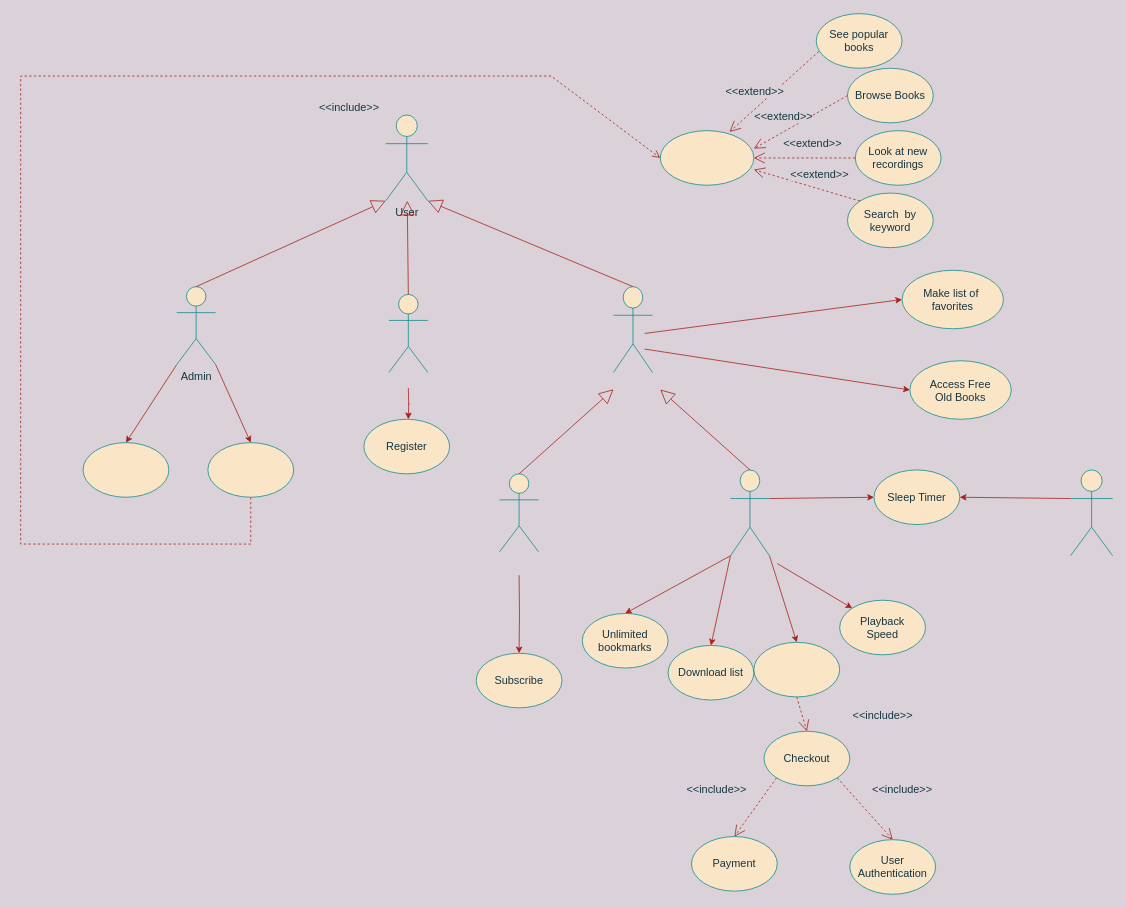
The diagram is 1126 pixels wide and 908 high, and some of its shapes have lost their labels. Here are the shapes that lost their labels. From the top down, the box of each, then its label:
(659, 130, 754, 185): View Books
(388, 294, 428, 372): Guest
(613, 286, 652, 372): Registered User
(82, 442, 169, 497): Modify Account
(207, 442, 294, 497): Manage Books
(499, 473, 539, 552): Unsubscribed User
(730, 469, 769, 556): Subscribed User
(1070, 469, 1113, 556): Time
(753, 642, 840, 697): Purchase Subscription
